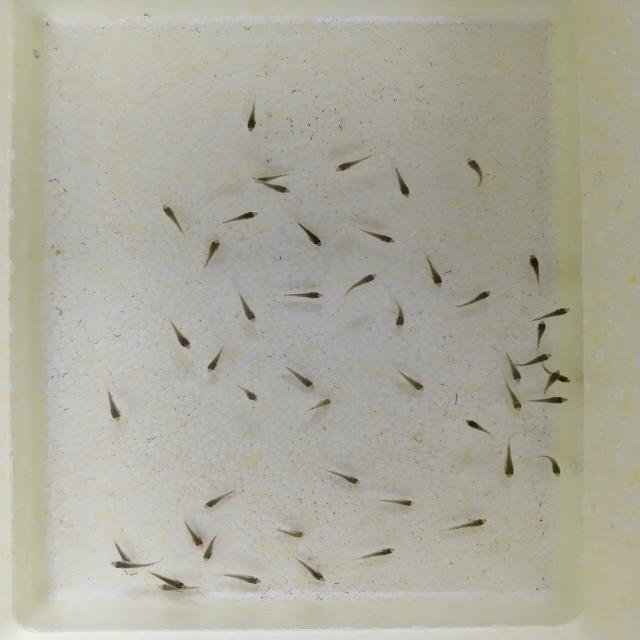fingerling: (282, 365, 326, 392), (460, 155, 490, 193), (384, 370, 429, 394), (420, 254, 448, 290), (295, 554, 327, 584), (296, 220, 327, 250), (356, 225, 400, 246), (456, 286, 494, 309), (328, 465, 364, 489), (152, 566, 188, 590), (201, 235, 223, 274), (102, 391, 129, 422), (331, 151, 372, 171), (526, 302, 577, 318), (387, 169, 415, 197), (345, 271, 380, 293), (460, 418, 496, 439), (158, 204, 184, 233), (234, 292, 259, 322), (221, 209, 264, 226), (389, 298, 411, 331), (218, 570, 263, 586), (164, 324, 191, 350), (202, 346, 225, 376), (184, 517, 204, 548), (541, 449, 562, 478), (363, 544, 401, 560), (202, 491, 234, 509), (502, 386, 525, 411), (447, 518, 491, 530), (302, 397, 334, 413), (272, 525, 308, 539), (526, 248, 538, 288), (505, 363, 526, 385), (502, 447, 516, 480), (253, 170, 289, 182), (375, 497, 418, 507), (110, 559, 162, 567), (544, 363, 558, 392), (245, 100, 258, 131), (281, 292, 331, 300), (530, 321, 548, 343), (234, 386, 259, 400), (531, 350, 556, 364), (532, 397, 574, 404), (203, 536, 214, 562), (114, 542, 131, 557), (260, 184, 290, 192), (558, 373, 579, 383)
